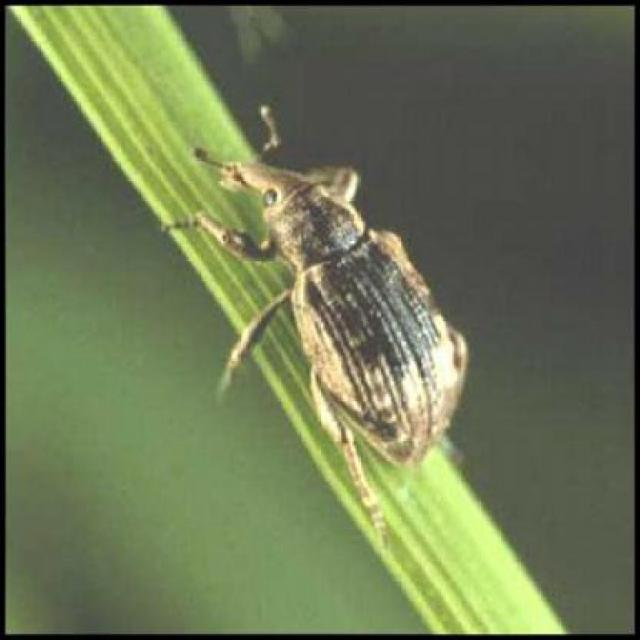rice-bug: (197, 131, 466, 478)
